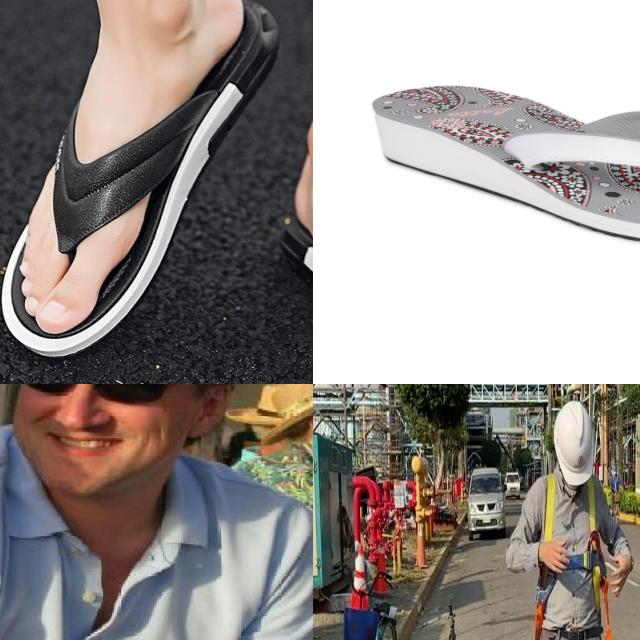Harness: (566, 479, 614, 640), (534, 564, 557, 640)
No_Ear-Protection: (184, 384, 235, 440)
Sandals: (0, 0, 242, 353), (365, 82, 640, 252)
face_nomask: (22, 384, 171, 466)
glasses: (12, 384, 176, 407)
head_nohelmet: (277, 384, 313, 422)
person: (0, 384, 313, 640), (235, 384, 313, 640)
